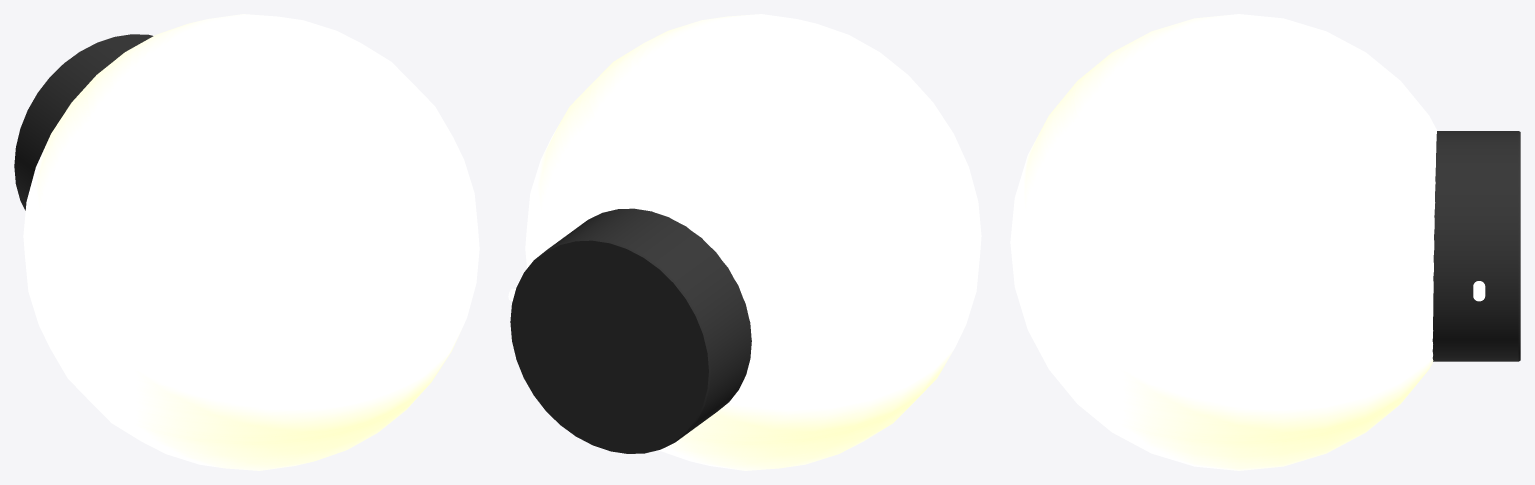
Rendered from CGT_Wall-Light_38_001.glb.
3 views of the same model, side by side, from view 1: azimuth 30°, elevation 25°; view 2: azimuth 150°, elevation 25°; view 3: azimuth 270°, elevation 25° (orthographic).
Parts seen in each view (by area): view 1: CGT_Wall-Light_38_001; view 2: CGT_Wall-Light_38_001; view 3: CGT_Wall-Light_38_001.
Part boxes in pixels (left/top/right/bottom): CGT_Wall-Light_38_001: left=14, top=14, right=479, bottom=470; CGT_Wall-Light_38_001: left=508, top=14, right=981, bottom=470; CGT_Wall-Light_38_001: left=1010, top=14, right=1520, bottom=470.
Bounding box in the file's own units: 0.1707 × 0.1707 × 0.1904.
